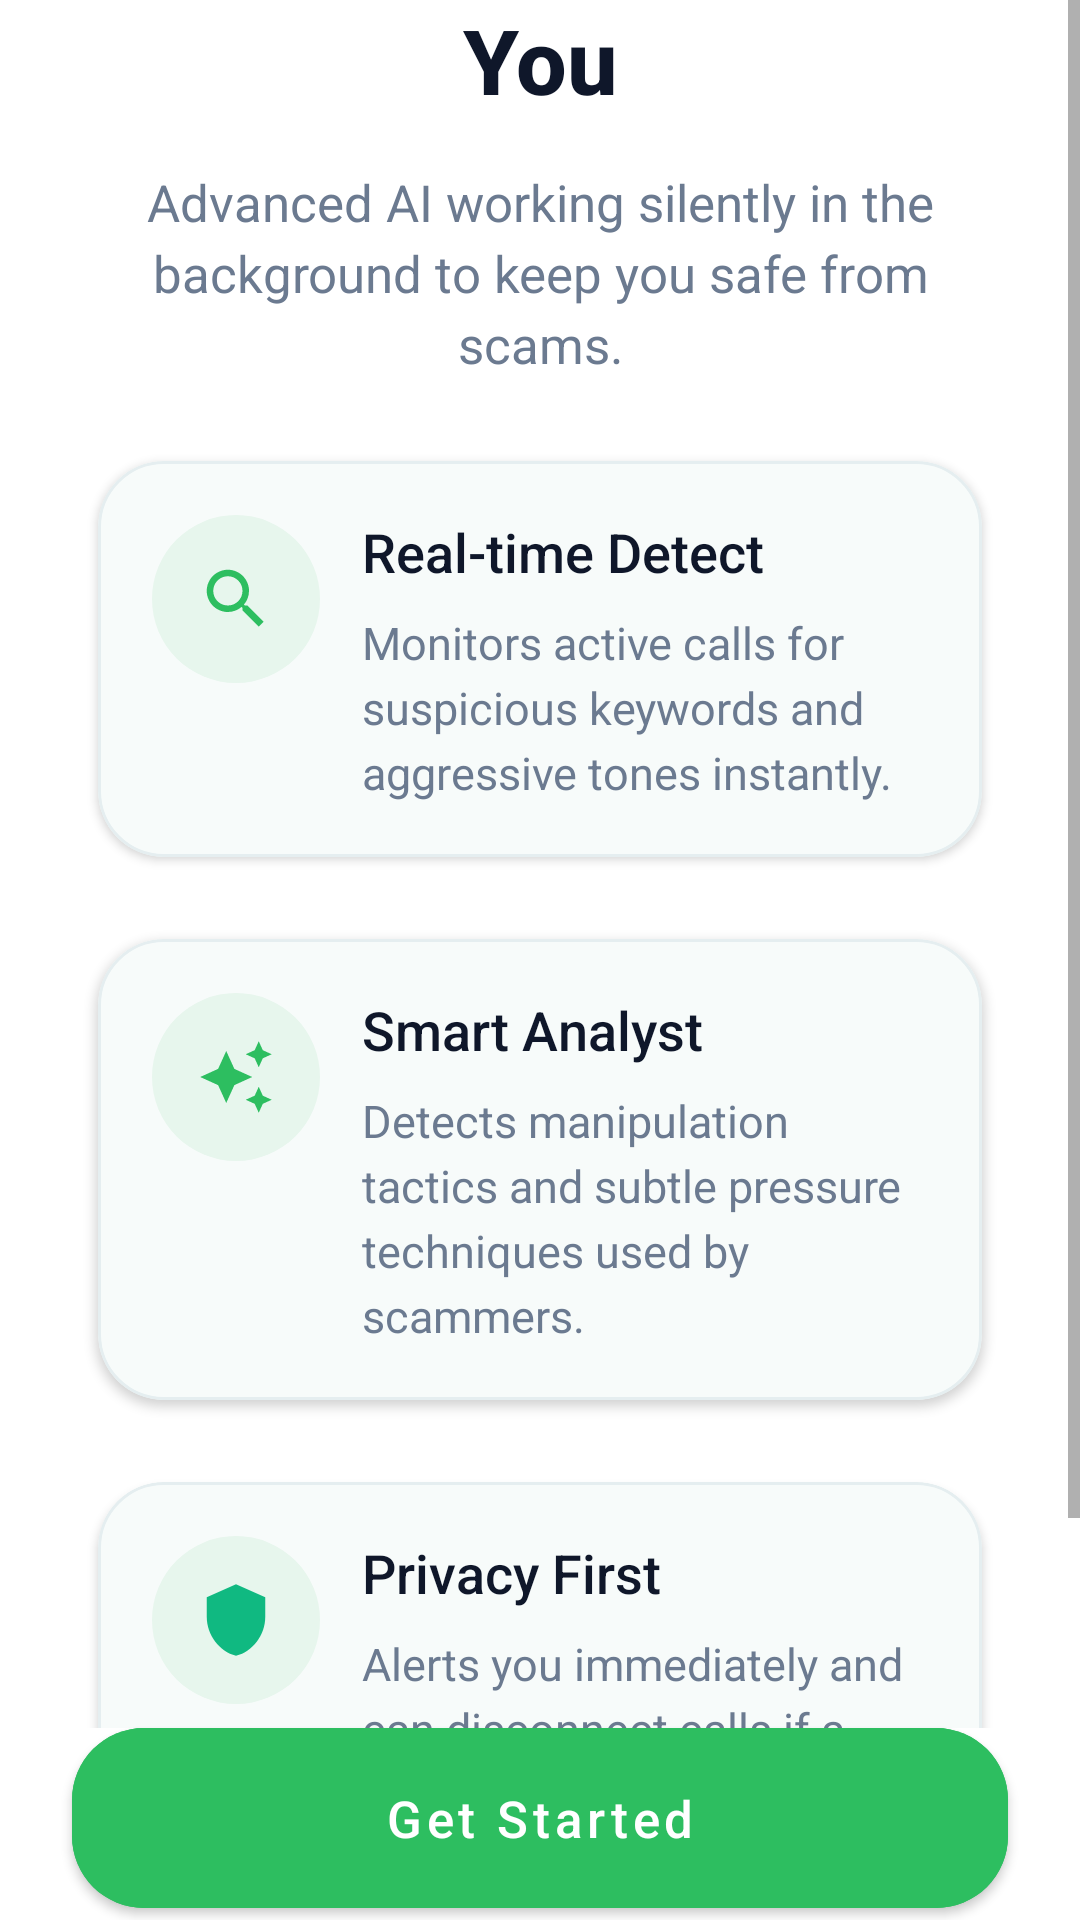

Named icons in this screenshot (1080w x 1920h) and their bounding boxes, (x1, y1, x2, y2):
intro search: (206, 569, 264, 627)
intro shield: (206, 1584, 266, 1656)
